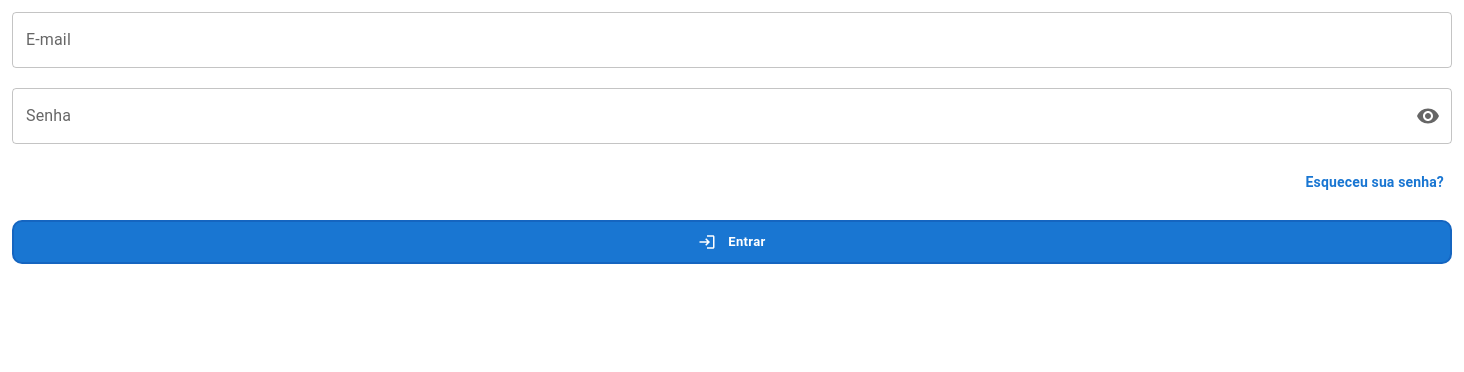
Test case: LoginForm component › renders modern, informative Portuguese error alert when login fails with invalid credentials
Type "usuario@errado.com" into the field with placeholder "seu@email.com" at (732, 40), box [12,12,1452,68]
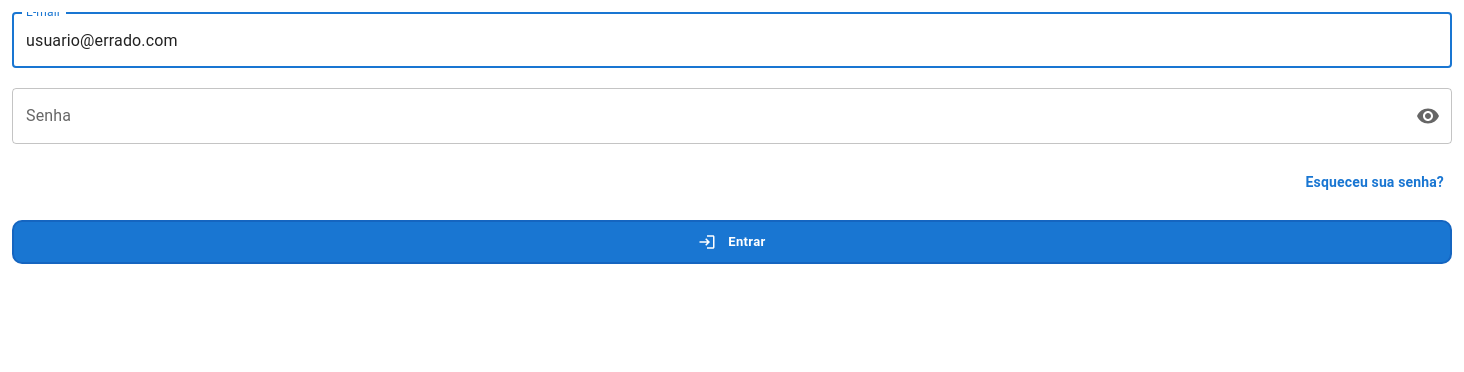
Type "SenhaErrada123!" into the field with placeholder "Sua senha" at (705, 116), box [12,88,1398,144]
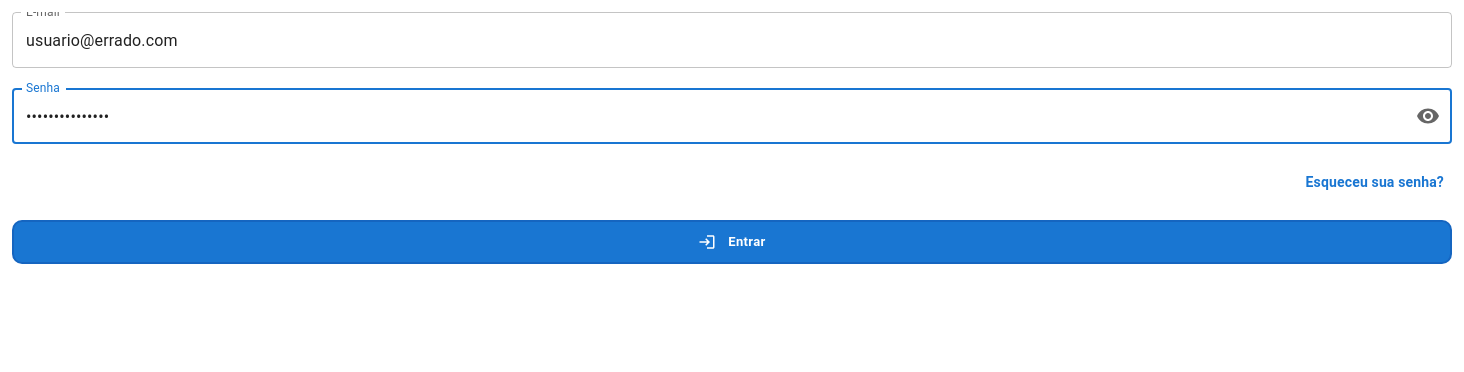
Click the button "Entrar" at (732, 242), box [12,220,1452,264]
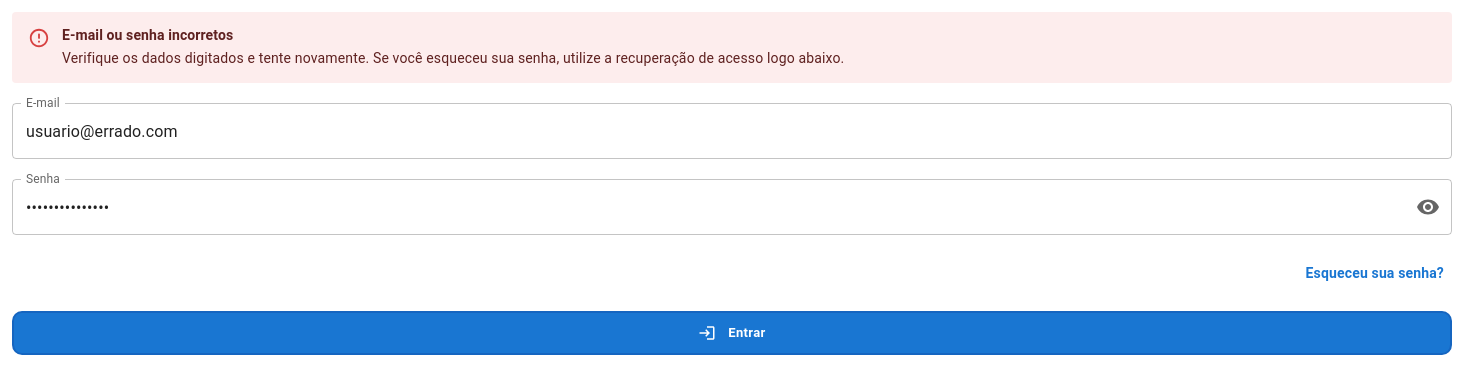
Result: the message is shown at [12,12,1452,83]
Result: the text "E-mail ou senha incorretos" is shown at [62,27,233,43]
Result: the text "Verifique os dados digitados e tente novamente. Se você esqueceu sua senha" is shown at [62,50,844,66]
